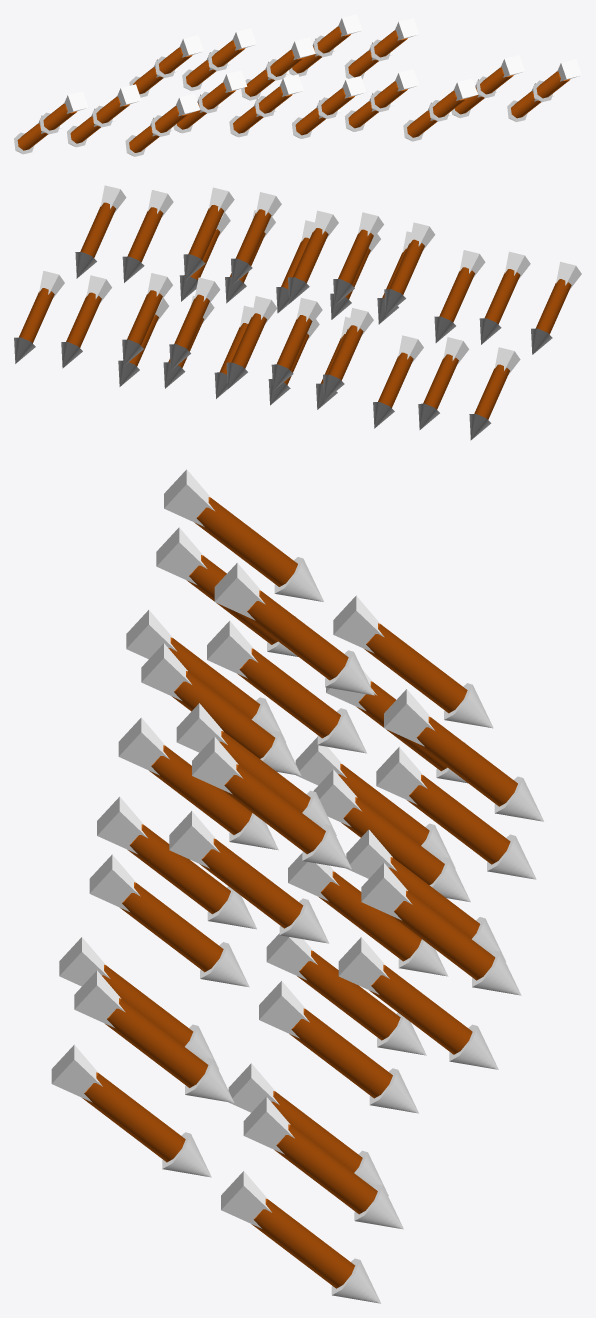
Rendered from arrowVolley.obj.
The picture shows the model from 3 angles, top to bottom: view 1: azimuth 30°, elevation 25°; view 2: azimuth 150°, elevation 25°; view 3: azimuth 270°, elevation 25°; orthographic projection. The views are drawn at different scales.
Parts seen in each view (by area): view 1: Cylinder_22, Cylinder_15, Cylinder_16, Cylinder_17, Cylinder_18, Cylinder_21, Cylinder_28, Cylinder_29, Cylinder_23, Cylinder_26, Cylinder_20, Cylinder_24 (+33 smaller); view 2: Cylinder_6, Cylinder_18, Cylinder_3, Cylinder_19, Cylinder_28, Cylinder_29, Cylinder_4, Cylinder_10, Cylinder_15, Cylinder_25, Cylinder_27, Cylinder_7 (+51 smaller); view 3: Cylinder_15, Cylinder_28, Cylinder_8, Cylinder_21, Cylinder_26, Cylinder_13, Cylinder, Cylinder_6, Cylinder_7, Cylinder_11, Cylinder_25, Cylinder_27 (+63 smaller).
Part boxes in pixels (box(x1,y1,x2,y2)): Cylinder_22: box(480, 67, 513, 94); Cylinder_15: box(43, 103, 77, 130); Cylinder_16: box(258, 86, 292, 113); Cylinder_17: box(202, 82, 235, 109); Cylinder_18: box(96, 96, 129, 123); Cylinder_21: box(536, 71, 570, 98); Cylinder_28: box(211, 40, 245, 67); Cylinder_29: box(270, 49, 303, 76); Cylinder_23: box(374, 81, 407, 108); Cylinder_26: box(374, 30, 407, 57); Cylinder_20: box(321, 88, 354, 115); Cylinder_24: box(432, 90, 466, 117); Cylinder_6: box(19, 288, 54, 343); Cylinder_18: box(484, 269, 520, 324); Cylinder_3: box(423, 354, 458, 409); Cylinder_19: box(439, 267, 474, 322); Cylinder_28: box(338, 229, 373, 284); Cylinder_29: box(293, 228, 328, 283); Cylinder_4: box(378, 352, 413, 407); Cylinder_10: box(327, 325, 363, 380); Cylinder_15: box(535, 279, 571, 334); Cylinder_25: box(389, 239, 424, 294); Cylinder_27: box(235, 209, 271, 264); Cylinder_7: box(66, 292, 101, 347); Cylinder_15: box(194, 497, 297, 586); Cylinder_28: box(238, 648, 340, 738); Cylinder_8: box(289, 1008, 392, 1098); Cylinder_21: box(82, 1072, 185, 1162); Cylinder_26: box(200, 838, 303, 928); Cylinder_13: box(407, 774, 510, 864); Cylinder: box(364, 623, 467, 713); Cylinder_6: box(251, 1198, 355, 1288); Cylinder_7: box(274, 1124, 377, 1214); Cylinder_11: box(369, 965, 472, 1054); Cylinder_25: box(245, 590, 348, 680); Cylinder_27: box(223, 764, 325, 854).
Size of the model in its own units: 39.35 by 14.56 by 16.74.
3 materials, 3 textured.
